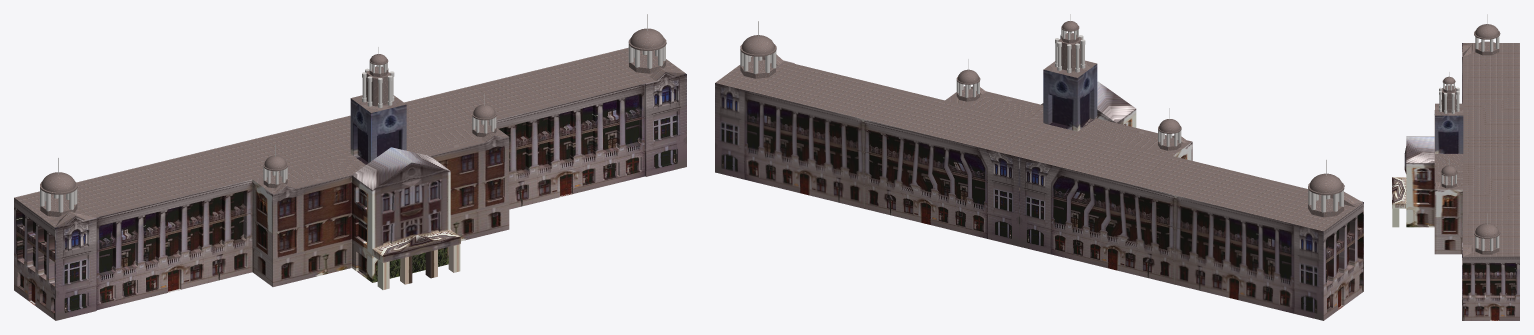
3 views of the same model, side by side, from view 1: azimuth 30°, elevation 25°; view 2: azimuth 150°, elevation 25°; view 3: azimuth 270°, elevation 25° (orthographic). The views are drawn at different scales.
Parts seen in each view (by area): view 1: pCube7, pCube8, pSphere1 (×2), pCube9; view 2: pCube7, pCube8, pSphere1 (×2); view 3: pCube7, pCube8, pSphere1 (×3), pCube10 (×3), pCube9.
Boxes of the visible parts, x1,y1,x2,y2 form: pCube7: [14, 47, 686, 320]; pCube8: [350, 95, 406, 164]; pSphere1 (×2): [41, 28, 664, 192]; pCube9: [366, 70, 390, 106]; pCube7: [715, 54, 1363, 320]; pCube8: [1043, 60, 1097, 131]; pSphere1 (×2): [741, 35, 1342, 193]; pCube7: [1392, 43, 1519, 320]; pCube8: [1435, 103, 1463, 153]; pSphere1 (×3): [1441, 24, 1499, 237]; pCube10 (×3): [1441, 41, 1499, 254]; pCube9: [1442, 88, 1456, 112].
Bounding box in the file's own units: 35.58 × 11.01 × 9.
5 materials, 2 textured.
